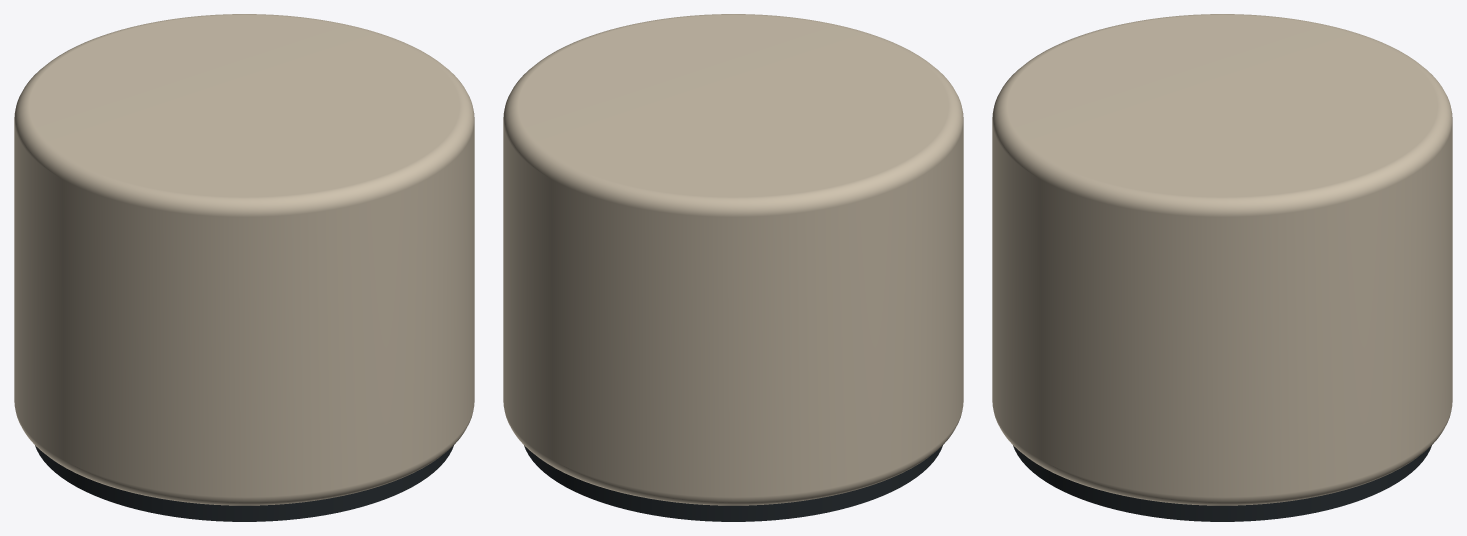
The model's file is pouf-1.glb.
3 renders of one model, left to right at view 1: azimuth 30°, elevation 25°; view 2: azimuth 150°, elevation 25°; view 3: azimuth 270°, elevation 25°, orthographic.
Visible parts, largest first — view 1: pouf:1:archviz; view 2: pouf:1:archviz; view 3: pouf:1:archviz.
Boxes of the visible parts, x1,y1,x2,y2 form: pouf:1:archviz: [14, 14, 474, 521]; pouf:1:archviz: [503, 14, 963, 521]; pouf:1:archviz: [992, 14, 1452, 521].
Bounding box in the file's own units: 0.55 × 0.43 × 0.55.
